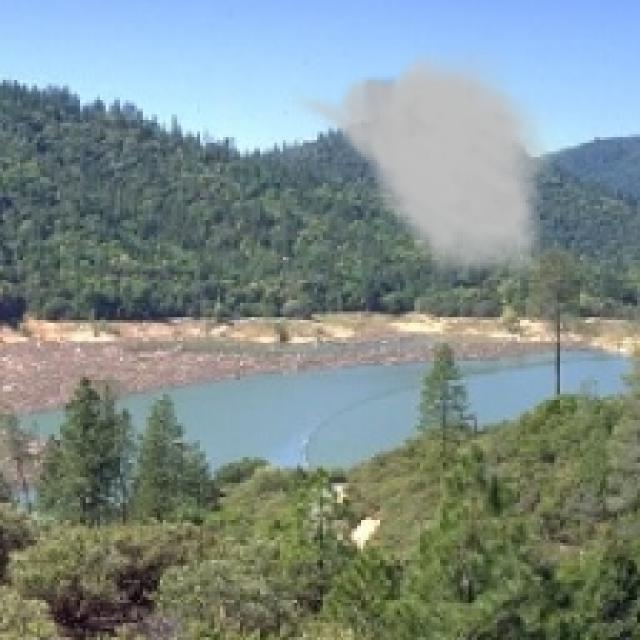Smoke: (288, 46, 558, 292)
